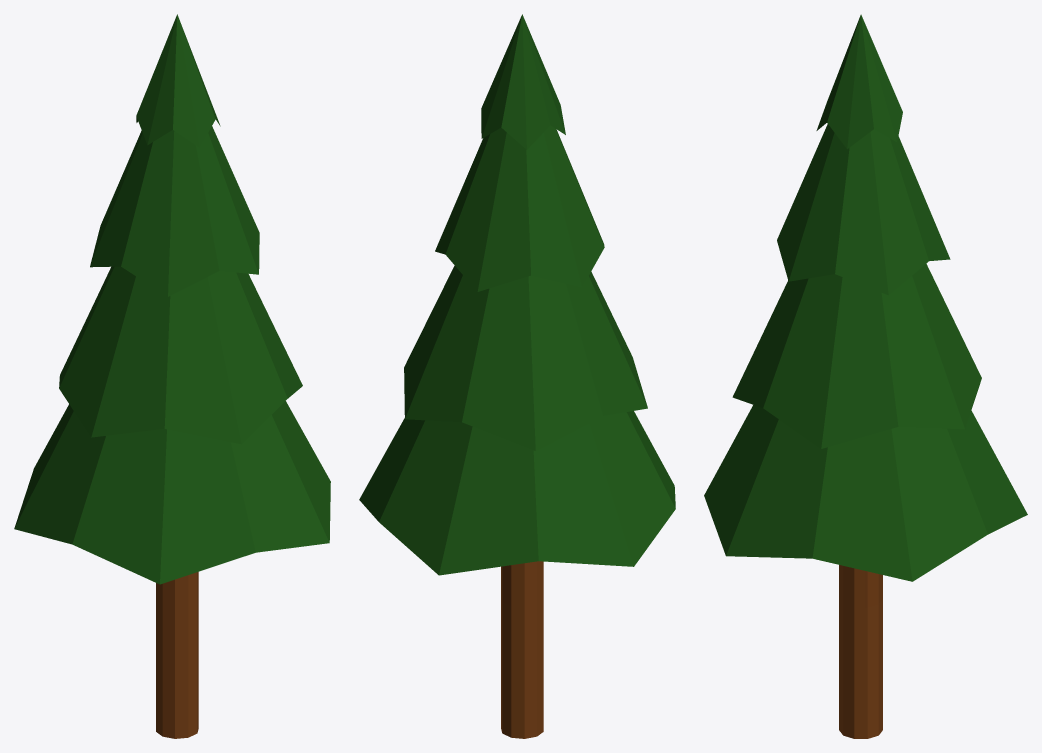
Rendered from Nature_pineTree_001.fbx.
3 renders of one model, left to right at view 1: azimuth 30°, elevation 25°; view 2: azimuth 150°, elevation 25°; view 3: azimuth 270°, elevation 25°, orthographic.
Parts seen in each view (by area): view 1: Nature_pineTree_001; view 2: Nature_pineTree_001; view 3: Nature_pineTree_001.
Boxes of the visible parts, x1,y1,x2,y2 form: Nature_pineTree_001: (14,14,330,738); Nature_pineTree_001: (359,14,675,738); Nature_pineTree_001: (704,14,1027,738).
Size of the model in its own units: 444 by 1104 by 453.
1 material, 1 textured.
